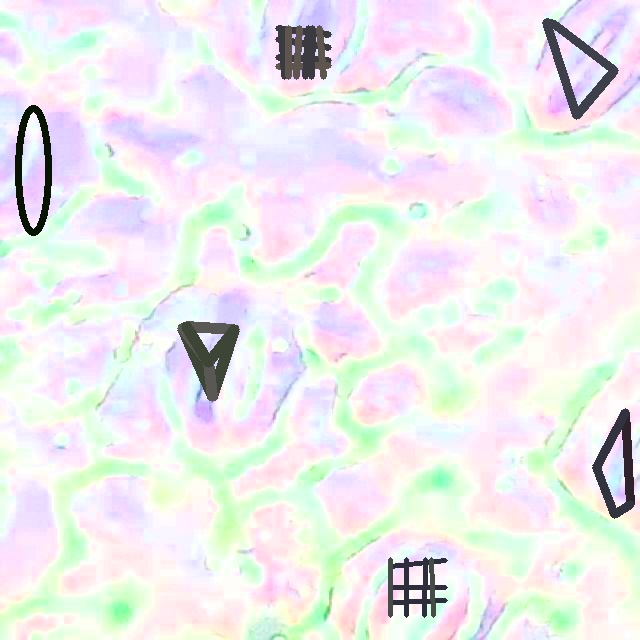open: (542, 20, 618, 119), (14, 103, 52, 236), (178, 322, 238, 401), (592, 409, 634, 517), (388, 557, 447, 617), (275, 25, 331, 79)
